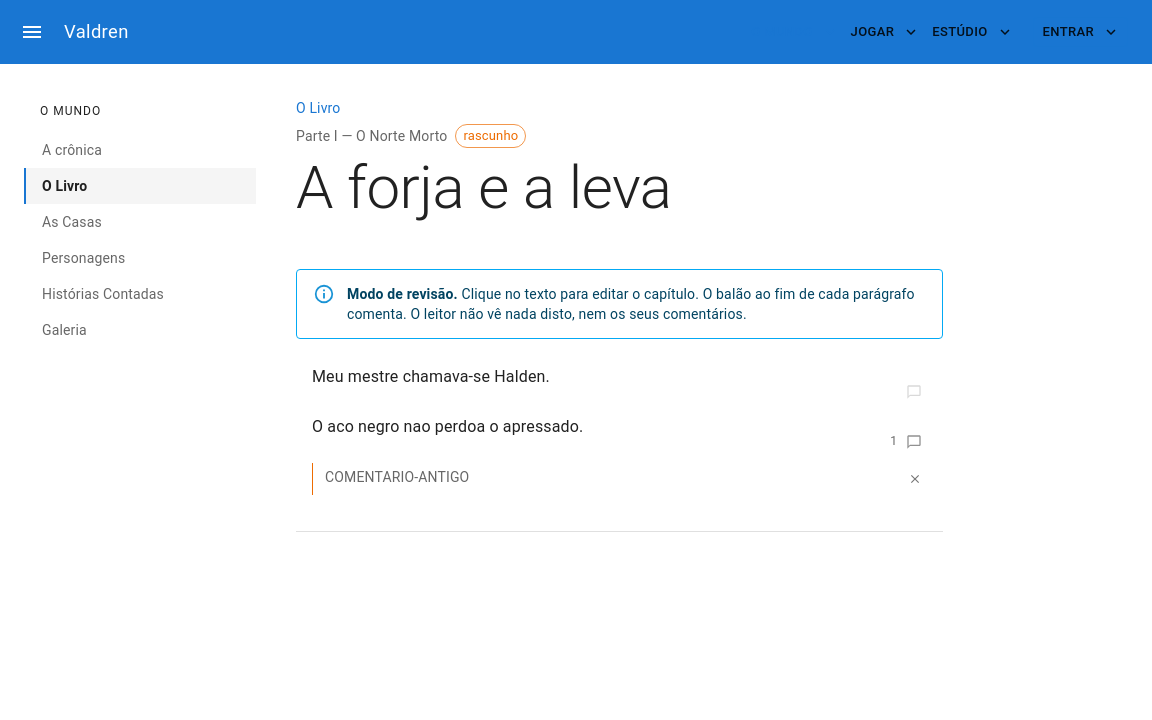
it: LivroCapituloPage para o Mestre › sai da edição com Escape
Click the element with test id "prosa-do-capitulo": coordinates (431, 377) [296, 363, 943, 507]
(page scrolled)
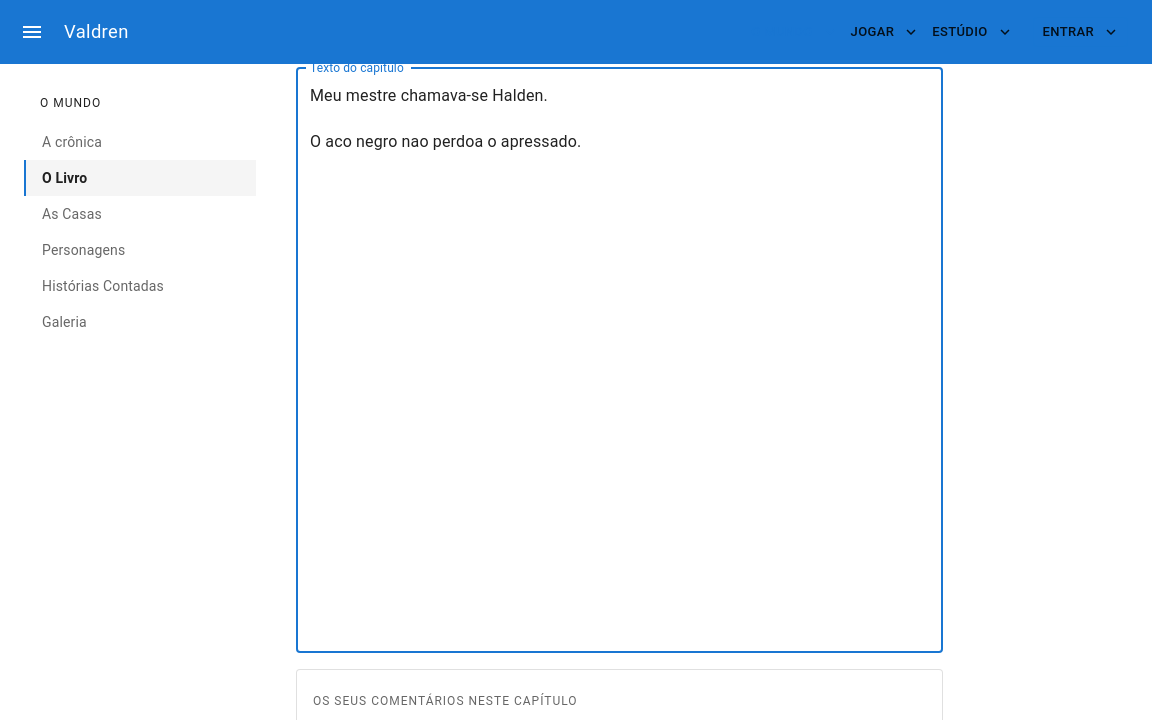
Press Escape in the text box labelled "Texto do capítulo", box [310, 84, 929, 636]
(page scrolled)
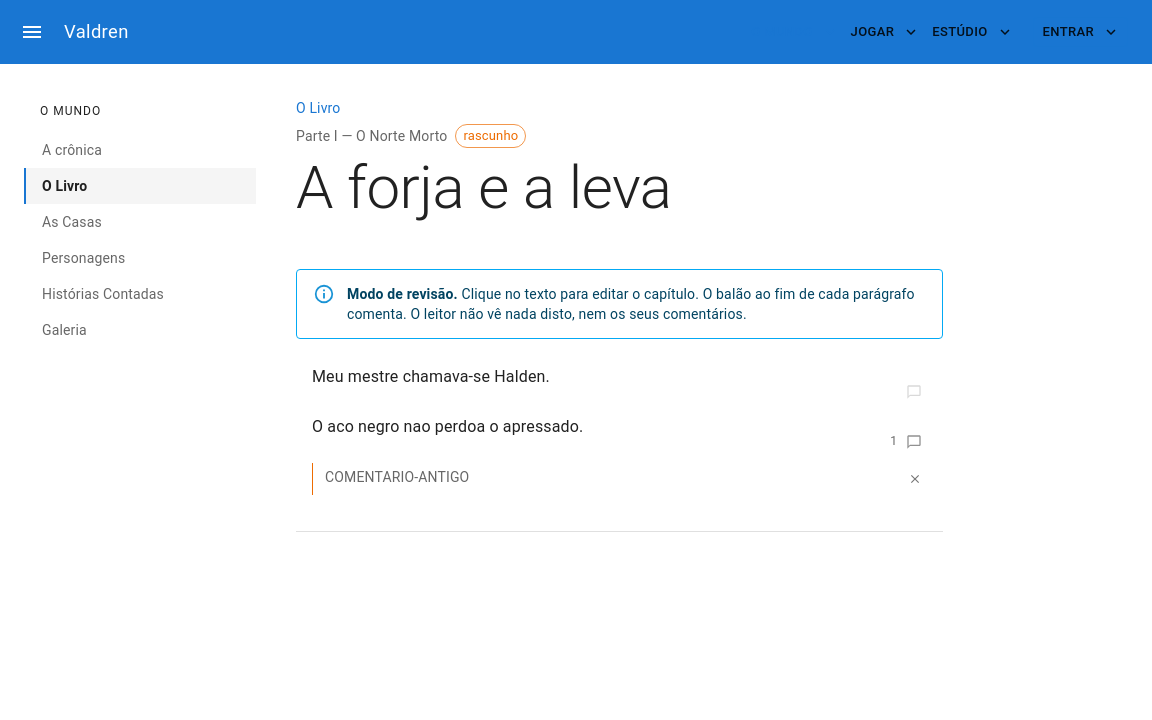
expect the label labelled "Texto do capítulo" is gone: met
